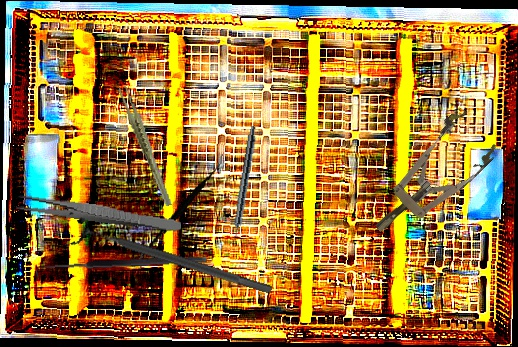Dressing Forceps: (15, 193, 183, 234)
Fixation Ring: (69, 214, 277, 306)
Handpiece: (228, 125, 258, 246)
Hook Surgical: (35, 254, 208, 280)
Spatula Surgical: (138, 145, 225, 277)
Speculum: (355, 105, 504, 251)
Tissue Forceps: (117, 81, 173, 211)
